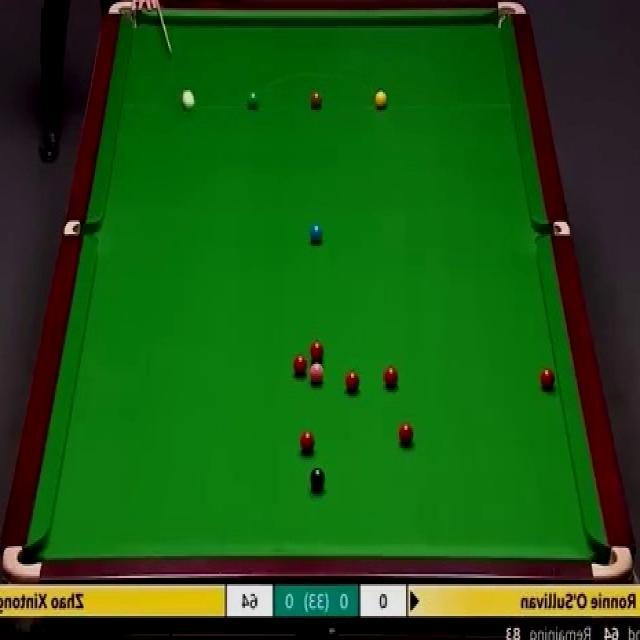black-ball: (311, 468, 324, 490)
blue-ball: (309, 226, 322, 244)
brown-ball: (309, 91, 323, 109)
green-ball: (245, 88, 260, 110)
pink-ball: (310, 363, 325, 384)
red-ball: (397, 422, 414, 447), (309, 338, 325, 364), (385, 365, 400, 387), (346, 372, 361, 393), (294, 355, 308, 376), (300, 434, 314, 454), (542, 368, 554, 388)
white-ball: (181, 88, 194, 110)
yellow-ball: (374, 90, 388, 111)
